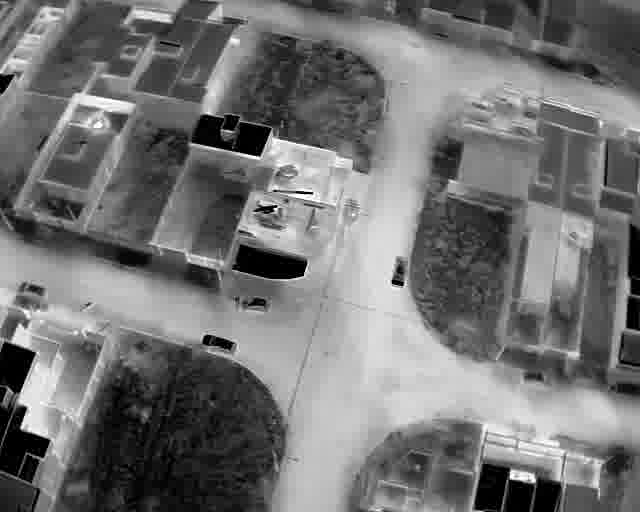car: (201, 333, 238, 356), (390, 255, 408, 288), (520, 369, 552, 387), (241, 296, 271, 313), (16, 282, 47, 298)
motorcycle: (78, 301, 93, 312)
